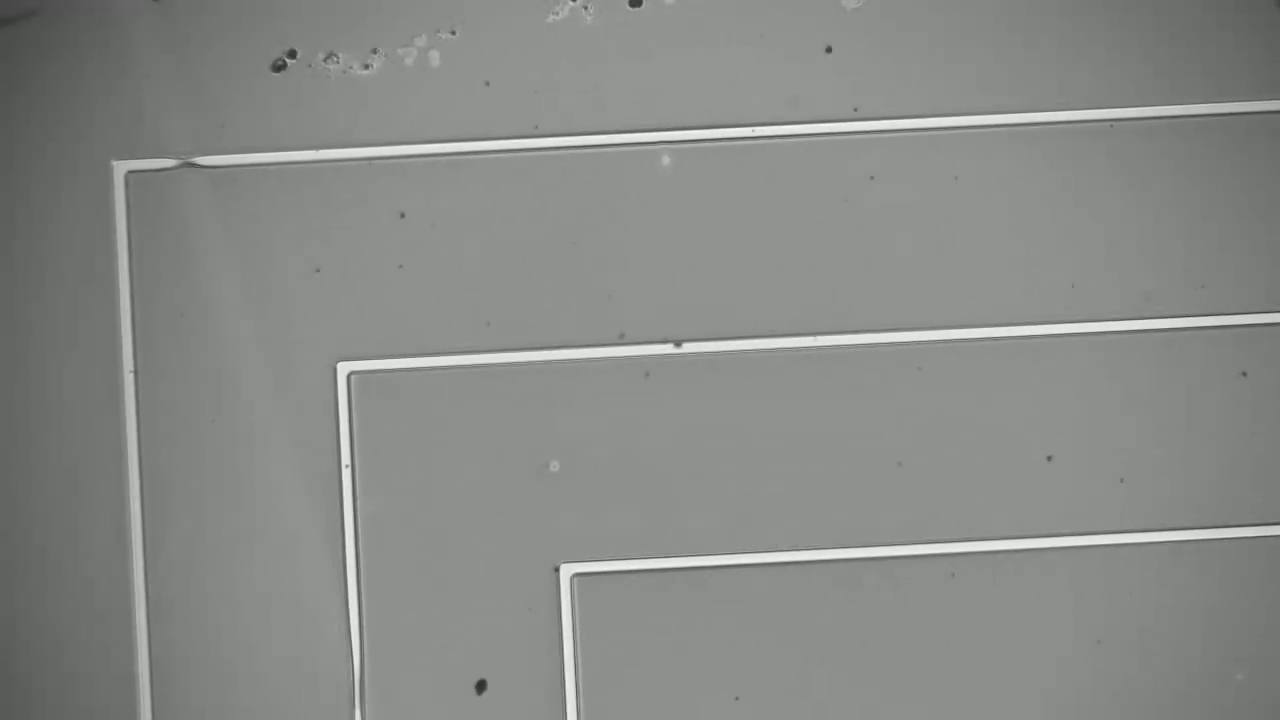edge_bite: (156, 142, 211, 177)
